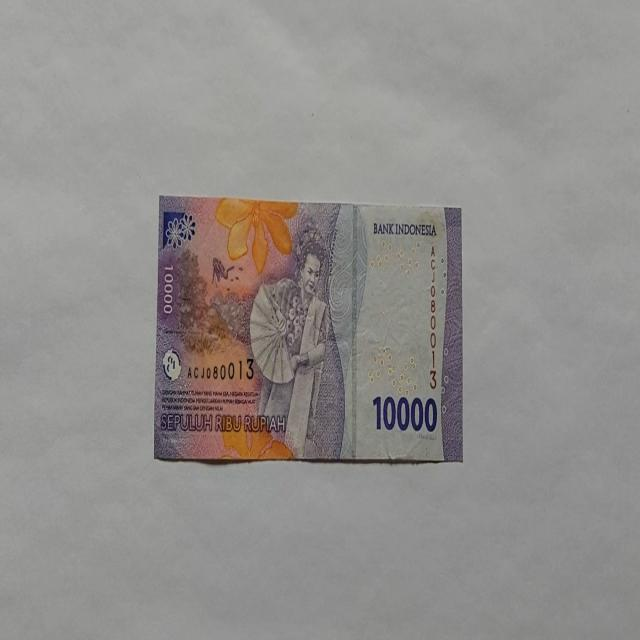sepuluh ribu rupiah: (153, 195, 463, 464)
